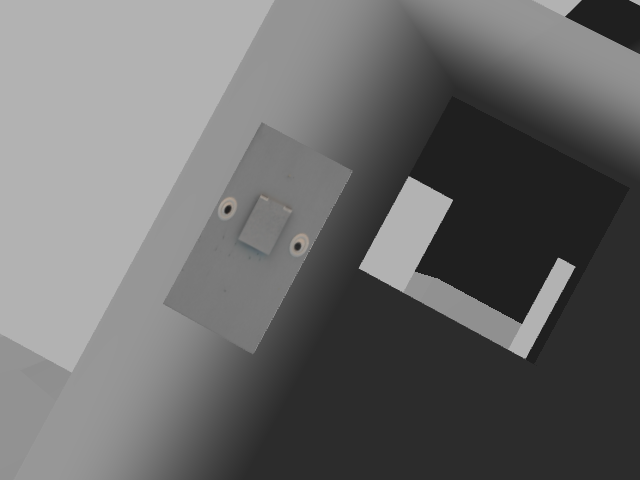facade: (216, 193, 309, 259)
